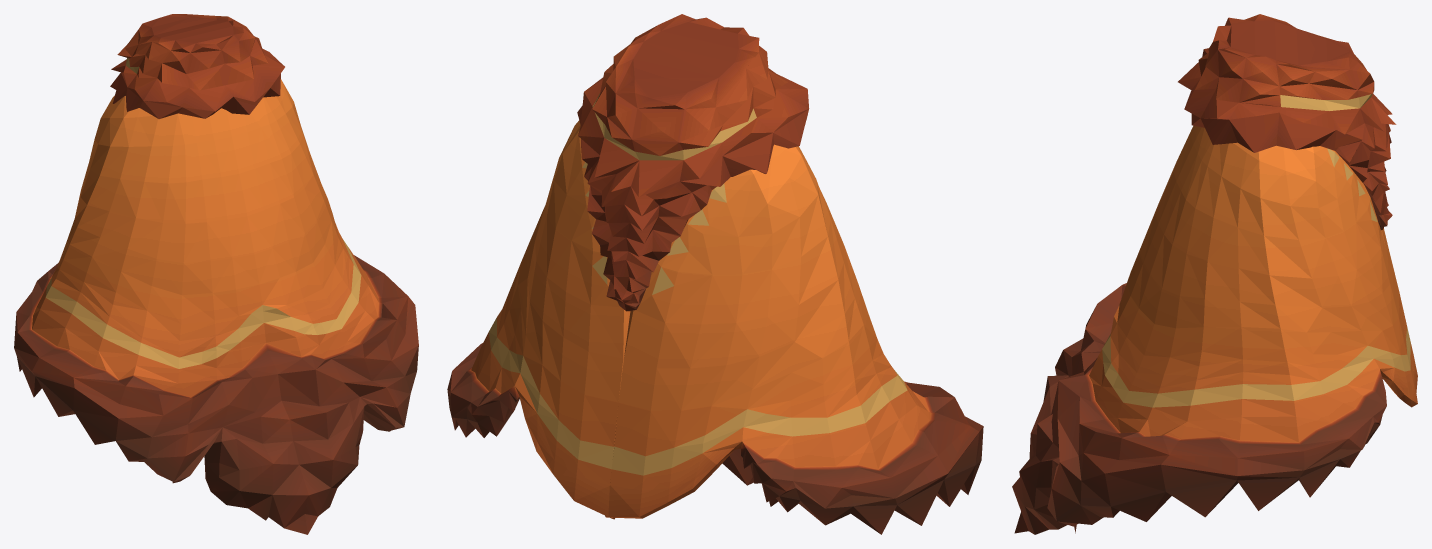
Rendered from CharSkyKid_Wing_AP02Tail_01.glb.
3 renders of one model, left to right at view 1: azimuth 30°, elevation 25°; view 2: azimuth 150°, elevation 25°; view 3: azimuth 270°, elevation 25°, orthographic. The views are drawn at different scales.
Parts seen in each view (by area): view 1: CharSkyKid_Wing_AP02Tail_01; view 2: CharSkyKid_Wing_AP02Tail_01; view 3: CharSkyKid_Wing_AP02Tail_01.
Boxes of the visible parts, box(x1,y1,x2,y2) form: CharSkyKid_Wing_AP02Tail_01: box(14, 14, 418, 534); CharSkyKid_Wing_AP02Tail_01: box(447, 14, 983, 534); CharSkyKid_Wing_AP02Tail_01: box(1012, 14, 1417, 534).
Bounding box in the file's own units: 7.14 × 8.13 × 5.99.
Materials: 1 (1 with a texture image).
